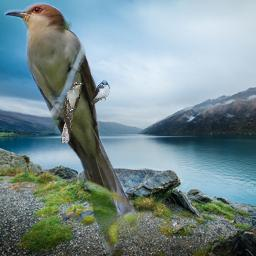Cuckoo: (4, 2, 137, 255), (61, 81, 84, 143)
Swallow: (90, 80, 110, 105)
